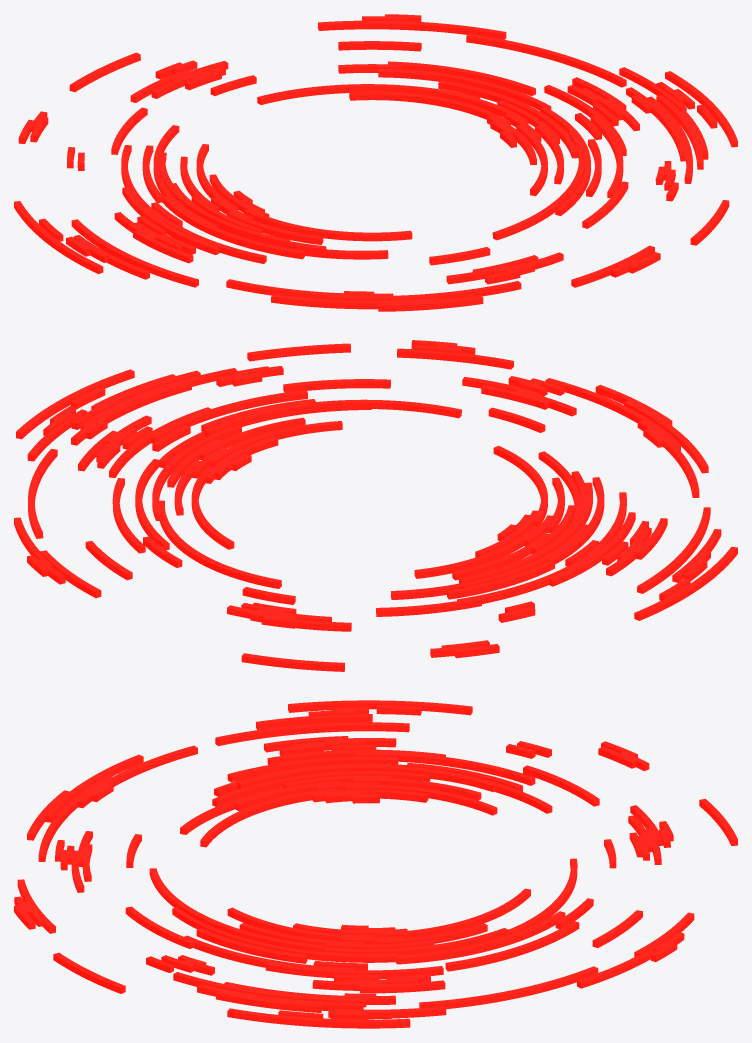
Rendered from Pan Wave Rings.fbx.
3 views of the same model, one above another, from view 1: azimuth 30°, elevation 25°; view 2: azimuth 150°, elevation 25°; view 3: azimuth 270°, elevation 25° (orthographic). The views are drawn at different scales.
Visible parts, largest first — view 1: 1st Wave Ring, 2nd Wave Ring, 3rd Wave Ring; view 2: 1st Wave Ring, 2nd Wave Ring, 3rd Wave Ring; view 3: 1st Wave Ring, 2nd Wave Ring, 3rd Wave Ring.
Boxes of the visible parts, <box> form: 1st Wave Ring: <box>121,61,626,265</box>; 2nd Wave Ring: <box>67,34,708,309</box>; 3rd Wave Ring: <box>14,14,737,311</box>; 1st Wave Ring: <box>109,390,635,604</box>; 2nd Wave Ring: <box>28,366,710,631</box>; 3rd Wave Ring: <box>14,340,737,671</box>; 1st Wave Ring: <box>126,749,616,979</box>; 2nd Wave Ring: <box>38,722,673,1012</box>; 3rd Wave Ring: <box>14,700,737,1028</box>.
Size of the model in its own units: 2148 by 55.24 by 2041.
